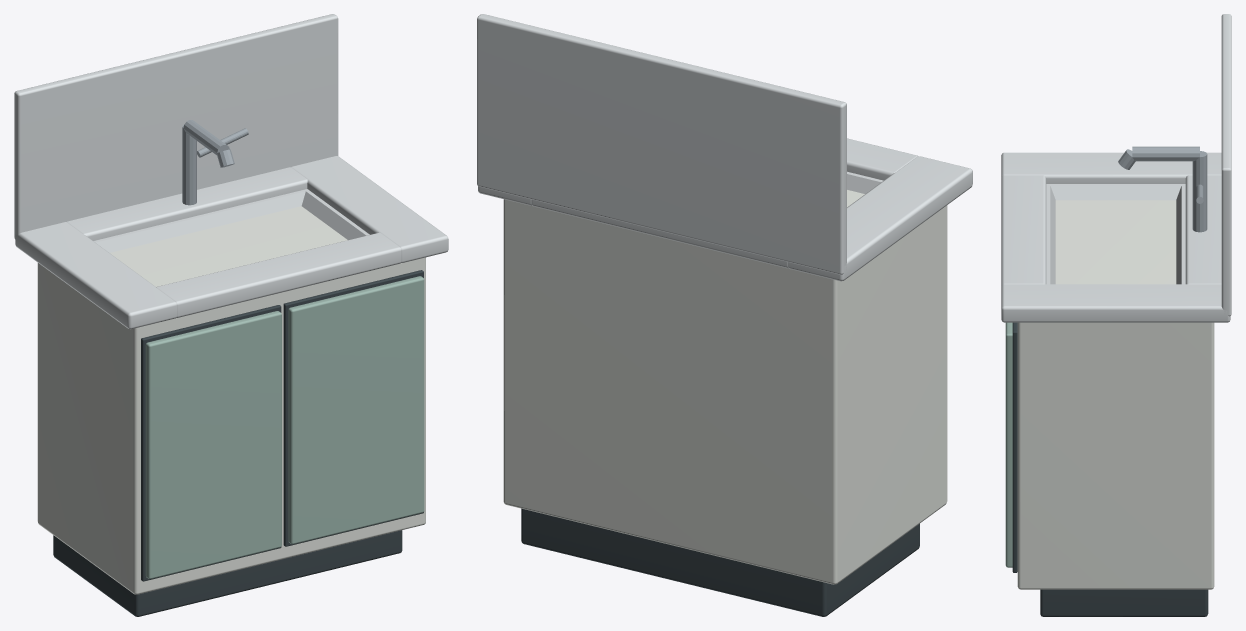
The model's file is clinical_sink.fbx.
The picture shows the model from 3 angles, left to right: view 1: azimuth 30°, elevation 25°; view 2: azimuth 150°, elevation 25°; view 3: azimuth 270°, elevation 25°; orthographic projection. The views are drawn at different scales.
Parts seen in each view (by area): view 1: EQ_clinical_sink_M_PlasticWhite, EQ_clinical_sink_M_Sage, EQ_clinical_sink_M_Ivory, EQ_clinical_sink_M_PlasticGrey, EQ_clinical_sink_M_SteelBrushed; view 2: EQ_clinical_sink_M_Ivory, EQ_clinical_sink_M_PlasticWhite, EQ_clinical_sink_M_PlasticGrey; view 3: EQ_clinical_sink_M_Ivory, EQ_clinical_sink_M_PlasticWhite, EQ_clinical_sink_M_PlasticGrey, EQ_clinical_sink_M_SteelBrushed, EQ_clinical_sink_M_Sage.
Part boxes in pixels (box(x1,y1,x2,y2)): EQ_clinical_sink_M_PlasticWhite: box(14, 14, 448, 329); EQ_clinical_sink_M_Sage: box(145, 276, 424, 578); EQ_clinical_sink_M_Ivory: box(37, 206, 425, 594); EQ_clinical_sink_M_PlasticGrey: box(53, 270, 423, 616); EQ_clinical_sink_M_SteelBrushed: box(182, 120, 248, 205); EQ_clinical_sink_M_Ivory: box(503, 190, 947, 584); EQ_clinical_sink_M_PlasticWhite: box(477, 14, 972, 281); EQ_clinical_sink_M_PlasticGrey: box(521, 508, 919, 616); EQ_clinical_sink_M_Ivory: box(1017, 200, 1214, 589); EQ_clinical_sink_M_PlasticWhite: box(1001, 14, 1231, 322); EQ_clinical_sink_M_PlasticGrey: box(1012, 322, 1208, 616); EQ_clinical_sink_M_SteelBrushed: box(1118, 146, 1207, 232); EQ_clinical_sink_M_Sage: box(1005, 322, 1012, 567).
Bounding box in the file's own units: 0.9 × 1.24 × 0.5625.
